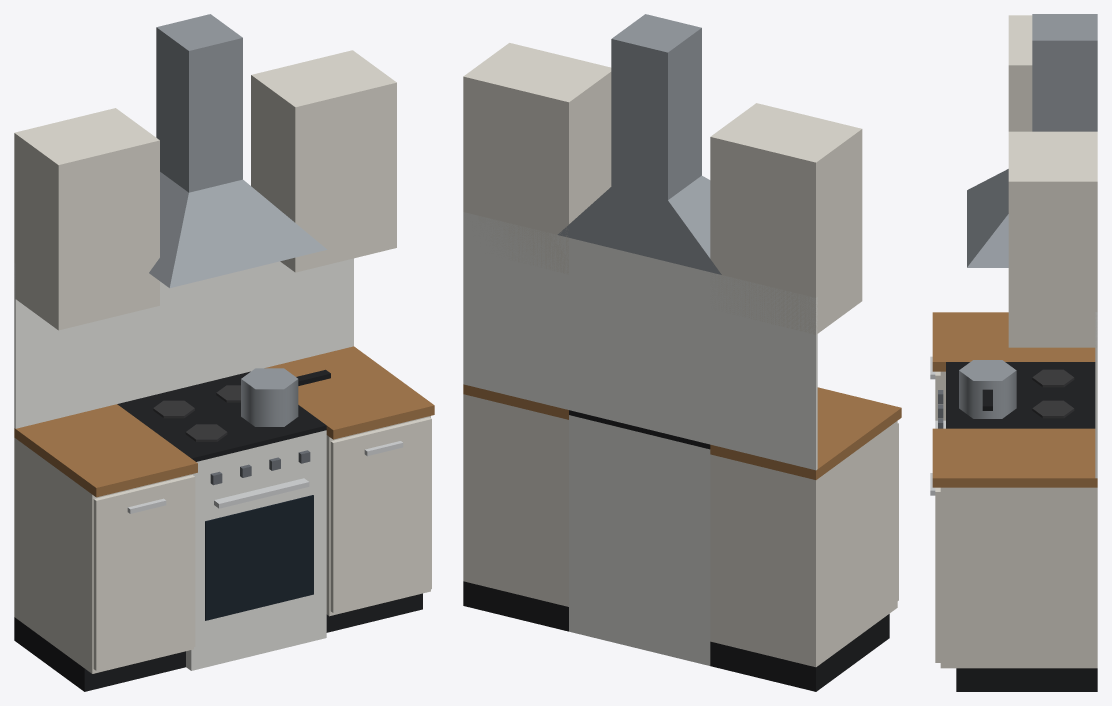
Rendered from kitchen_stove.glb.
3 renders of one model, left to right at view 1: azimuth 30°, elevation 25°; view 2: azimuth 150°, elevation 25°; view 3: azimuth 270°, elevation 25°, orthographic. The views are drawn at different scales.
Visible parts, largest first — view 1: kitchen_stove; view 2: kitchen_stove; view 3: kitchen_stove.
Boxes of the visible parts, x1,y1,x2,y2 form: kitchen_stove: [14, 14, 434, 691]; kitchen_stove: [463, 14, 901, 691]; kitchen_stove: [930, 14, 1097, 691].
Bounding box in the file's own units: 1.5 × 2.45 × 0.64.
1 material, 1 textured.
